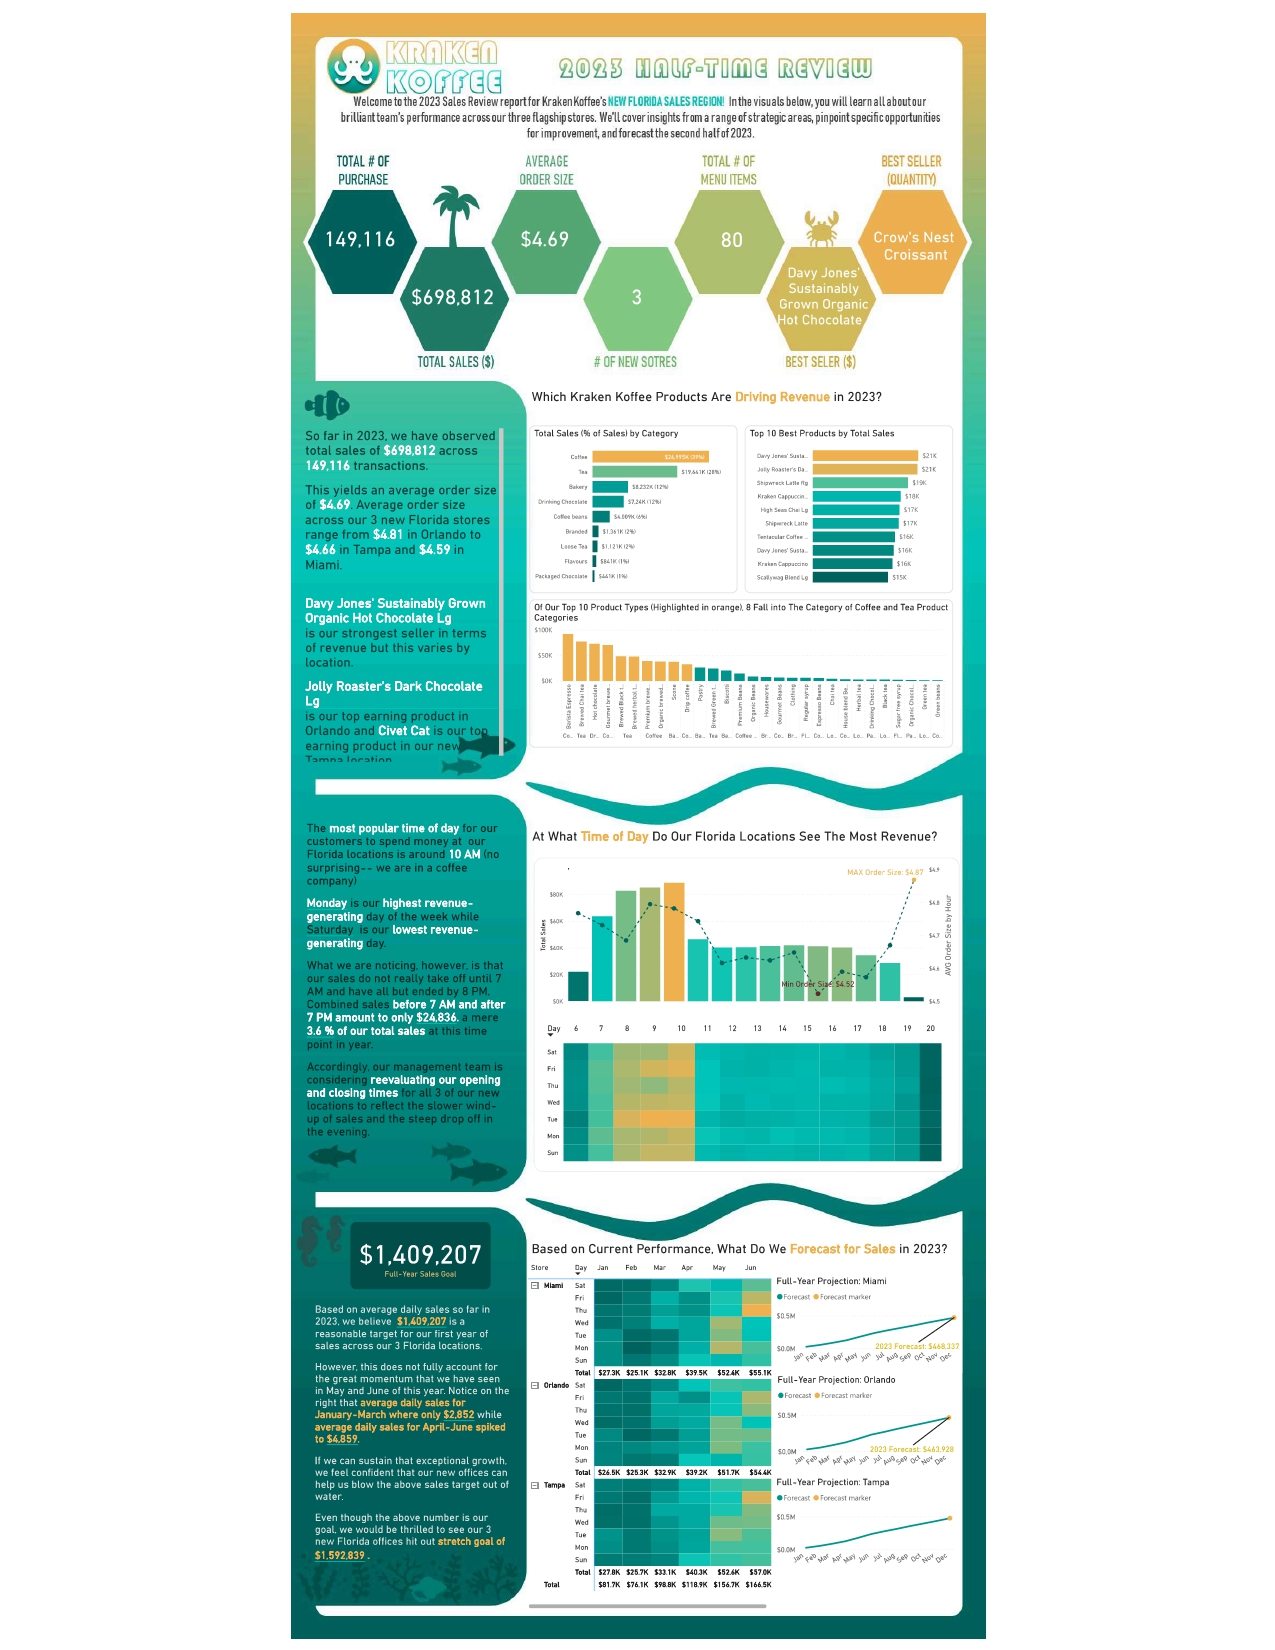

Layout of this report page (visuals, bound fields, positions):
{"tool":"powerbi","page":{"name":"Coffee Infographic","canvas":[1280,3000],"ordinal":0},"visuals":[{"type":"card","fields":{"Values":["01-CoreMeasures.Total Transactions"]},"box":[0,320.7,253.4,184.5],"z":0},{"type":"card","fields":{"Values":["01-CoreMeasures.Total Sales"]},"box":[175.9,427.6,243.1,184.5],"z":1000},{"type":"card","fields":{"Values":["01-CoreMeasures.Average Order Size"]},"box":[358.6,320.7,217.2,184.5],"z":2000},{"type":"card","fields":{"Values":["01-CoreMeasures.Store Count"]},"box":[541.4,427.6,191.4,184.5],"z":3000},{"type":"card","fields":{"Values":["01-CoreMeasures.Product Count"]},"box":[716.2,322.5,191.2,183.8],"z":4000},{"type":"card","fields":{"Values":["01-CoreMeasures.Top Earner"]},"box":[890,448.8,188.8,141.2],"z":5000},{"type":"card","fields":{"Values":["01-CoreMeasures.Most Popular Product"]},"box":[1047.5,356.2,206.2,141.2],"z":6000},{"type":"clusteredBarChart","title":"Total Sales (% of Sales) by Category","fields":{"Y":["01-CoreMeasures.Total Sales"],"Category":["DIM-Product.product_category"]},"box":[438.8,761.2,383,309],"z":7000},{"type":"clusteredBarChart","title":"Top 10 Best Products by Total Sales","fields":{"Category":["DIM-Product.product_detail"],"Y":["01-CoreMeasures.Total Sales"]},"box":[835.8,761.2,383.6,309],"z":8000},{"type":"clusteredColumnChart","title":"Of Our Top 10 Product Types (Highlighted in orange), 8 Fall into The Category of Coffee and Tea Product Categories","fields":{"Category":["DIM-Product.product_category","DIM-Product.product_type"],"Y":["01-CoreMeasures.Total Sales"]},"box":[438.8,1082.1,780.6,273.1],"z":9000},{"type":"textbox","box":[437.5,688.9,780.6,59.7],"z":10000},{"type":"shape","box":[447.2,1558.3,783.3,579.2],"z":11000},{"type":"textbox","box":[438.9,1500,791.7,58.3],"z":12000},{"type":"pivotTable","fields":{"Values":["01-CoreMeasures.Total Sales"],"Rows":["DIM-Date.Day Name (Short)"],"Columns":["FCT-Kraken_Koffee_Sales.Hour"]},"box":[466.7,1851,754.2,279.2],"z":13000},{"type":"lineClusteredColumnComboChart","fields":{"Category":["FCT-Kraken_Koffee_Sales.Hour"],"Y":["01-CoreMeasures.Total Sales"],"Y2":["01-CoreMeasures.Average Order Size","02-NestedMeasures.Max AVG Order Size Marker","02-NestedMeasures.Min AVG Order Size Marker"]},"box":[456.9,1566,761.1,269.4],"z":14000},{"type":"lineChart","title":"Full-Year Projection: Tampa","fields":{"Category":["Forecast Date Table.Month Name"],"Y":["04-ForecastMeasures.Forecast","04-ForecastMeasures.Forecast marker"]},"box":[889.5,2700,338.2,180.3],"z":15000},{"type":"lineChart","title":"Full-Year Projection: Orlando","fields":{"Category":["Forecast Date Table.Month Name"],"Y":["04-ForecastMeasures.Forecast","04-ForecastMeasures.Forecast marker"]},"box":[891.4,2510.5,334.2,188.2],"z":16000},{"type":"lineChart","title":"Full-Year Projection: Miami","fields":{"Category":["Forecast Date Table.Month Name"],"Y":["04-ForecastMeasures.Forecast","04-ForecastMeasures.Forecast marker"]},"box":[889.5,2328.9,346.1,180.3],"z":17000},{"type":"pivotTable","fields":{"Rows":["DIM-Store.store_location","DIM-Date.Day Name (Short)"],"Columns":["Forecast Date Table.Month Name"],"Values":["01-CoreMeasures.Total Sales"]},"box":[437.1,2302.9,452.9,645.7],"z":18000},{"type":"textbox","box":[438.2,2261,792.1,37],"z":19000},{"type":"textbox","box":[21.4,761.4,374.3,624.3],"z":20000},{"type":"textbox","box":[24.3,1485.7,380,620],"z":21000},{"type":"card","fields":{"Values":["04-ForecastMeasures.Forecast"]},"box":[109.9,2231.1,257.5,122.8],"z":22000},{"type":"textbox","box":[38.8,2375,368.8,505],"z":23000}]}

Visuals, with their boxes on the page's 1280x3000 design canvas (x1, y1, x2, y2). These are canvas units, not pixel positions in the 1275x1650 screenshot, which may show the page scaled, cropped or inside an application window:
card - 01-CoreMeasures.Total Transactions: locate(0, 321, 253, 505)
card - 01-CoreMeasures.Total Sales: locate(176, 428, 419, 612)
card - 01-CoreMeasures.Average Order Size: locate(359, 321, 576, 505)
card - 01-CoreMeasures.Store Count: locate(541, 428, 733, 612)
card - 01-CoreMeasures.Product Count: locate(716, 322, 907, 506)
card - 01-CoreMeasures.Top Earner: locate(890, 449, 1079, 590)
card - 01-CoreMeasures.Most Popular Product: locate(1048, 356, 1254, 497)
"Total Sales (% of Sales) by Category" clusteredBarChart: locate(439, 761, 822, 1070)
"Top 10 Best Products by Total Sales" clusteredBarChart: locate(836, 761, 1219, 1070)
"Of Our Top 10 Product Types (Highlighted in orange), 8 Fall into The Category of Coffee and Tea Product Categories" clusteredColumnChart: locate(439, 1082, 1219, 1355)
textbox: locate(438, 689, 1218, 749)
shape: locate(447, 1558, 1230, 2138)
textbox: locate(439, 1500, 1231, 1558)
pivotTable - 01-CoreMeasures.Total Sales x DIM-Date.Day Name (Short): locate(467, 1851, 1221, 2130)
lineClusteredColumnComboChart - FCT-Kraken_Koffee_Sales.Hour x 01-CoreMeasures.Total Sales: locate(457, 1566, 1218, 1835)
"Full-Year Projection: Tampa" lineChart: locate(890, 2700, 1228, 2880)
"Full-Year Projection: Orlando" lineChart: locate(891, 2510, 1226, 2699)
"Full-Year Projection: Miami" lineChart: locate(890, 2329, 1236, 2509)
pivotTable - DIM-Store.store_location x DIM-Date.Day Name (Short): locate(437, 2303, 890, 2949)
textbox: locate(438, 2261, 1230, 2298)
textbox: locate(21, 761, 396, 1386)
textbox: locate(24, 1486, 404, 2106)
card - 04-ForecastMeasures.Forecast: locate(110, 2231, 367, 2354)
textbox: locate(39, 2375, 408, 2880)
